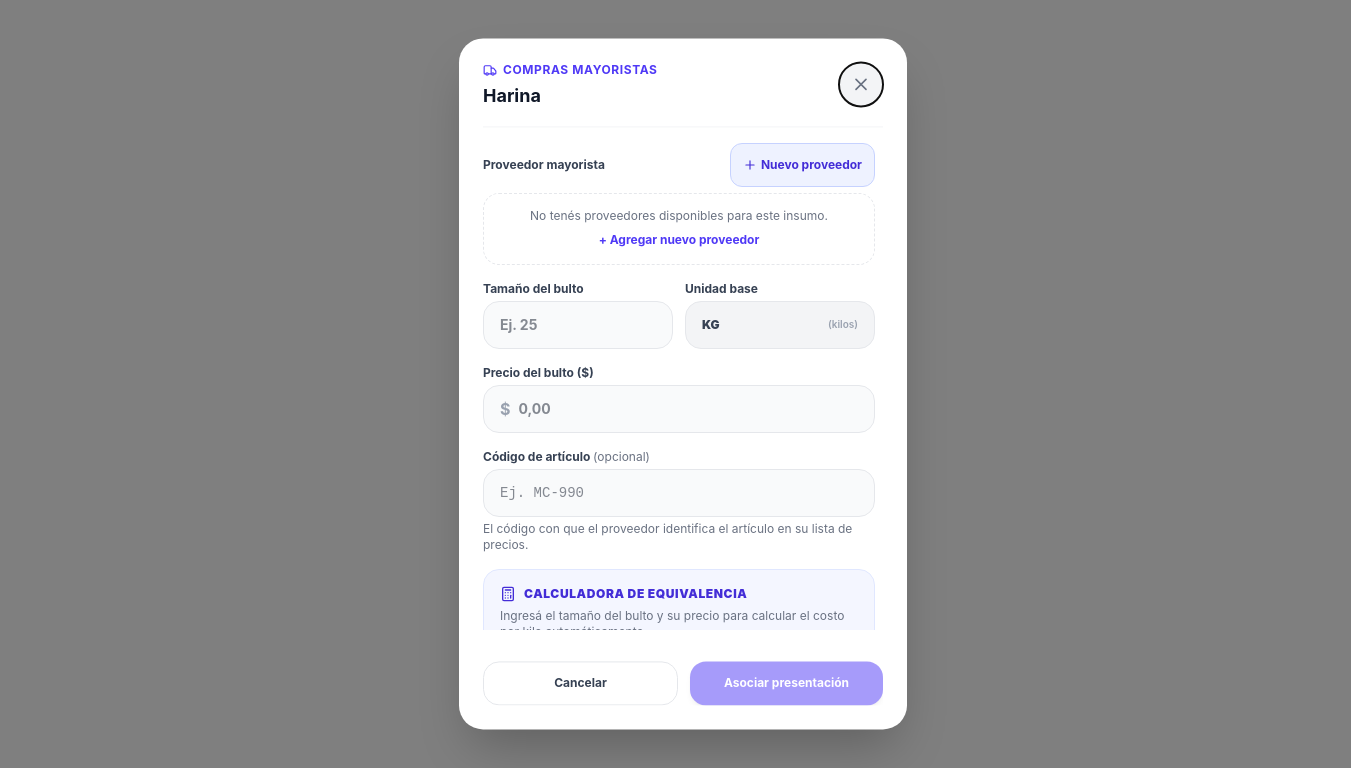
Scenario: SupplierPackagingModal › muestra advertencia al intentar cerrar con cambios sin guardar en formulario
Later steps or results of the test are not shown.
// Simular un cambio en el tamaño del bulto
In the field labelled "Tamaño del bulto": (578, 325) [500,315,656,335], type "100"
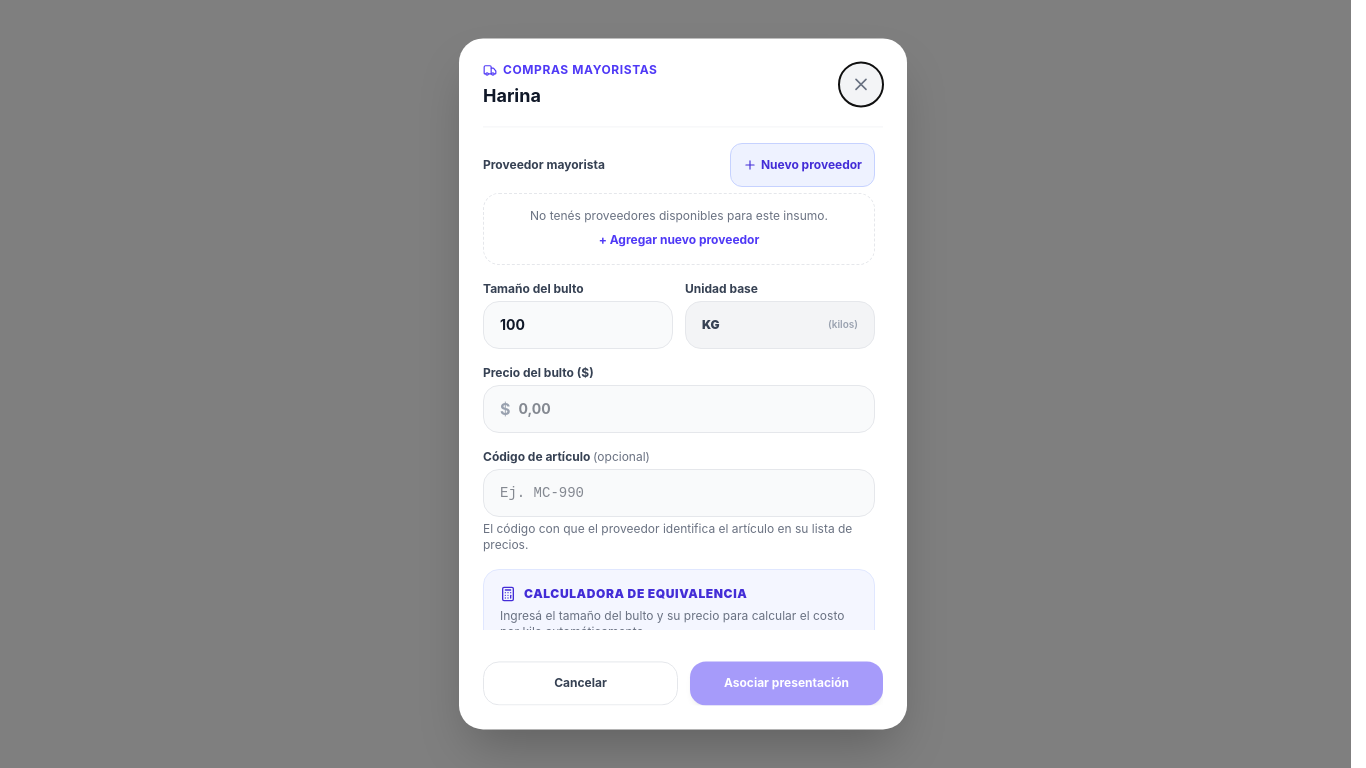
// Intentar cerrar con Cancelar
Click the button "Cancelar": (580, 684) [483,662,678,706]
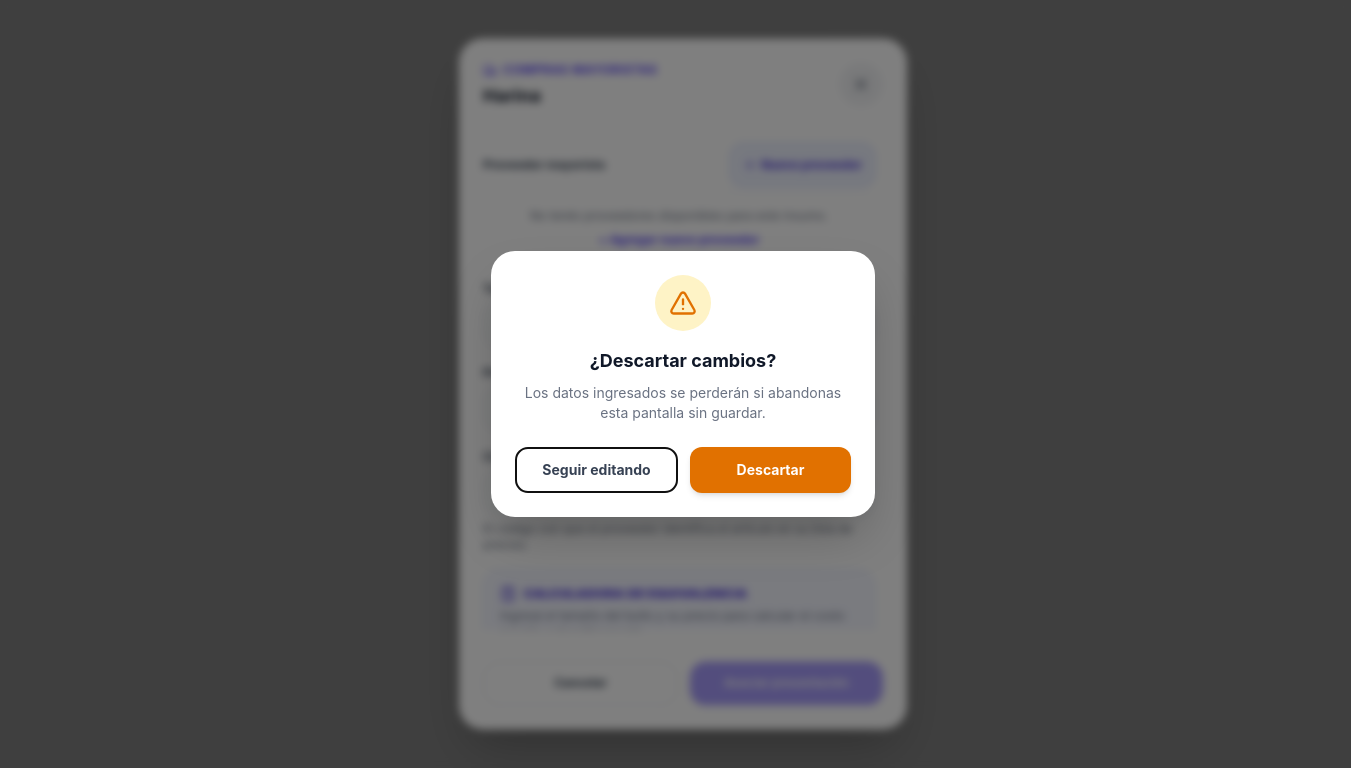
Now the heading "¿Descartar cambios?" is shown, box [590,350,776,371]
